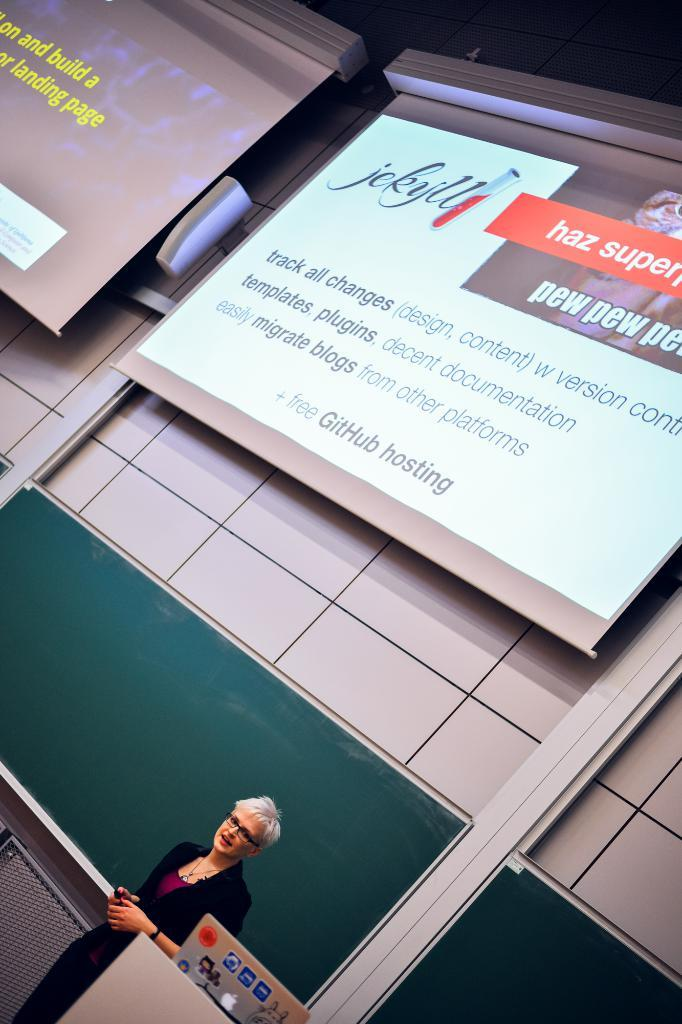Sem Máscara: (213, 809, 260, 849)
